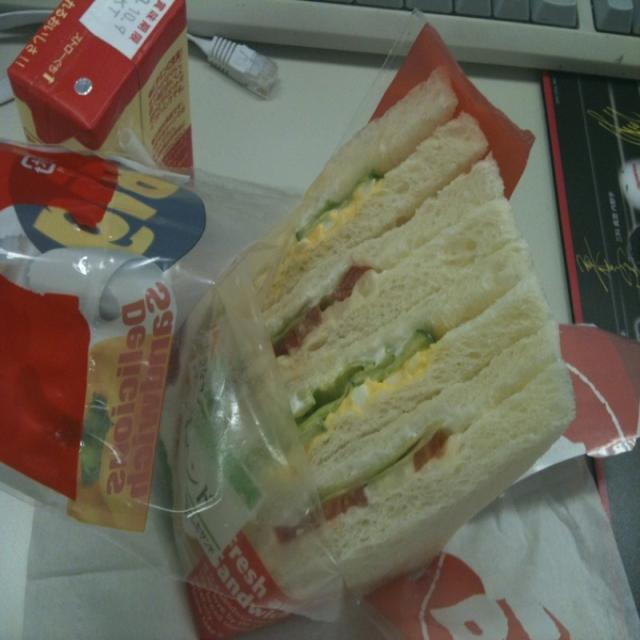三明治: (135, 39, 417, 449)
